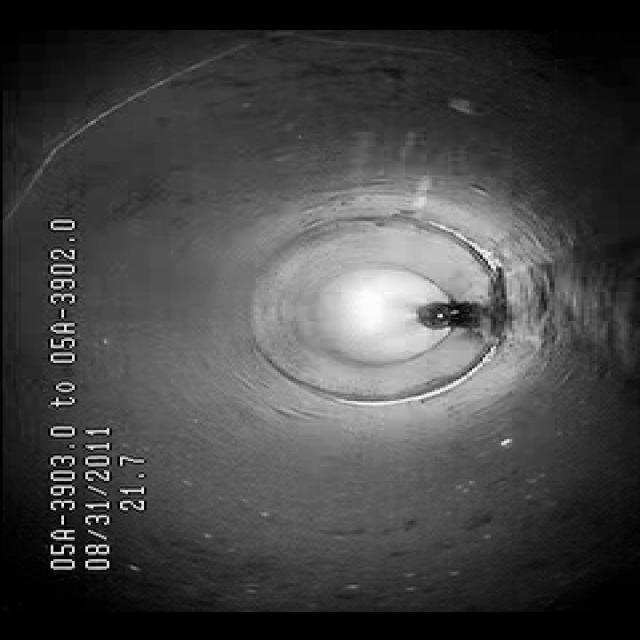Crack: (47, 17, 452, 140)
